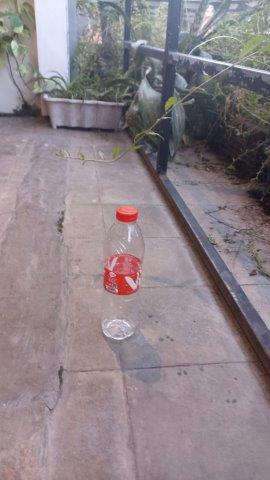botolplastik: (99, 206, 143, 340)
